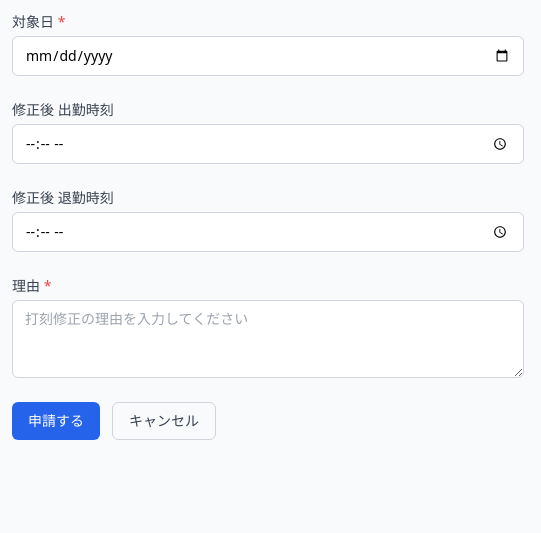
Test: ClockFixForm › 出勤時刻と退勤時刻が両方未入力の場合エラーを表示する
The image size is (541, 533).
Type "2026-07-10" into the date field labelled "対象日 *" at (268, 56), box top-left (12, 36), bottom-right (524, 76)
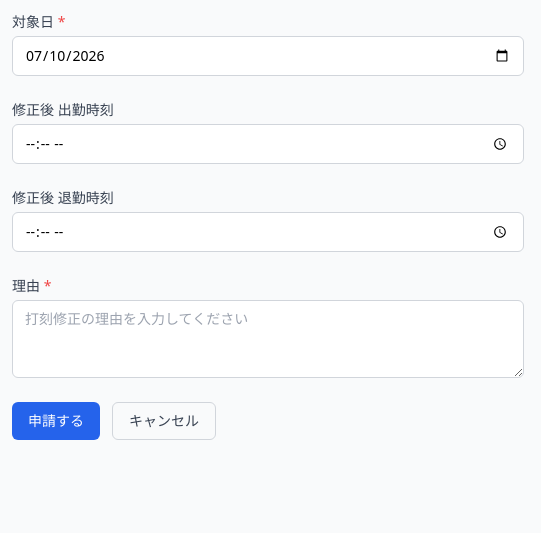
Type "打刻忘れ" into the text box labelled "理由 *" at (268, 339), box top-left (12, 300), bottom-right (524, 378)
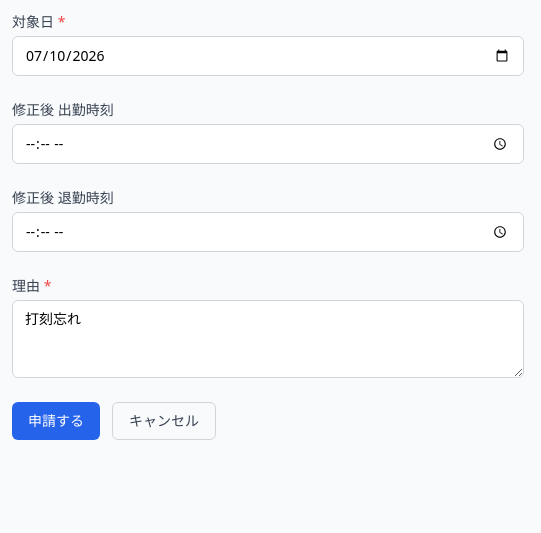
Click the button "申請する" at (56, 421), box top-left (12, 402), bottom-right (100, 440)
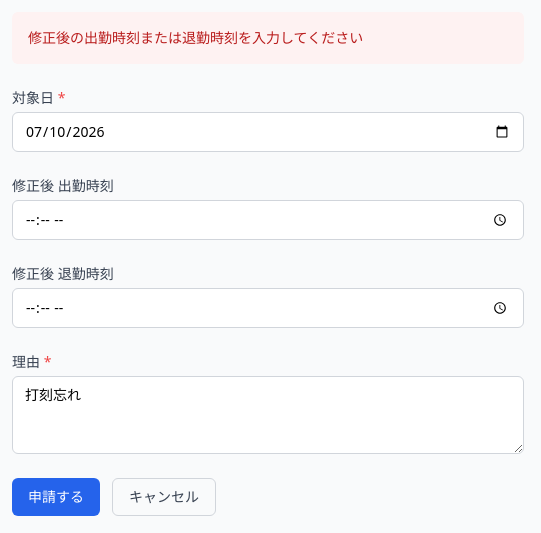
Result: the message reads "修正後の出勤時刻または退勤時刻を入力してください" at top-left (28, 28), bottom-right (363, 47)
